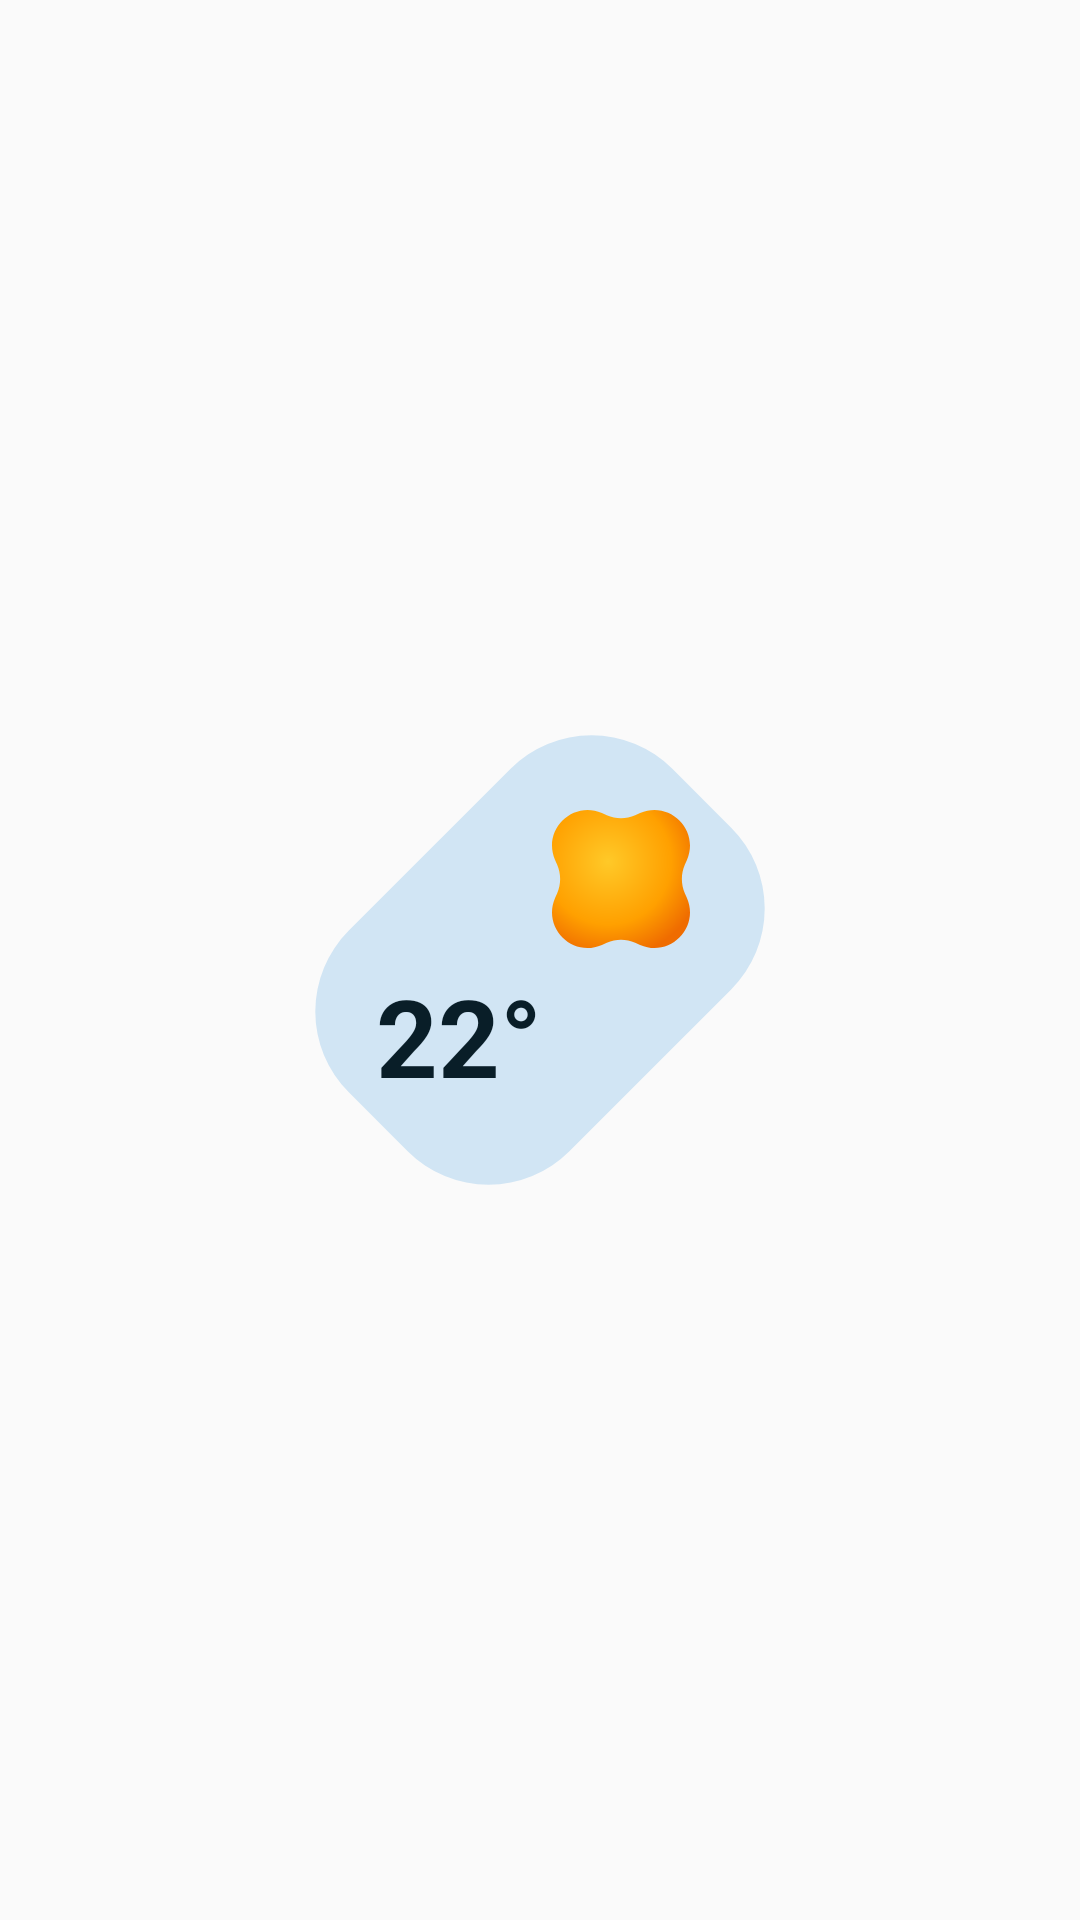

Named icons in this screenshot (1080 × 1920) and their bounding boxes, (x1, y1, x2, y2):
weather sun scalloped: (552, 810, 690, 948)
